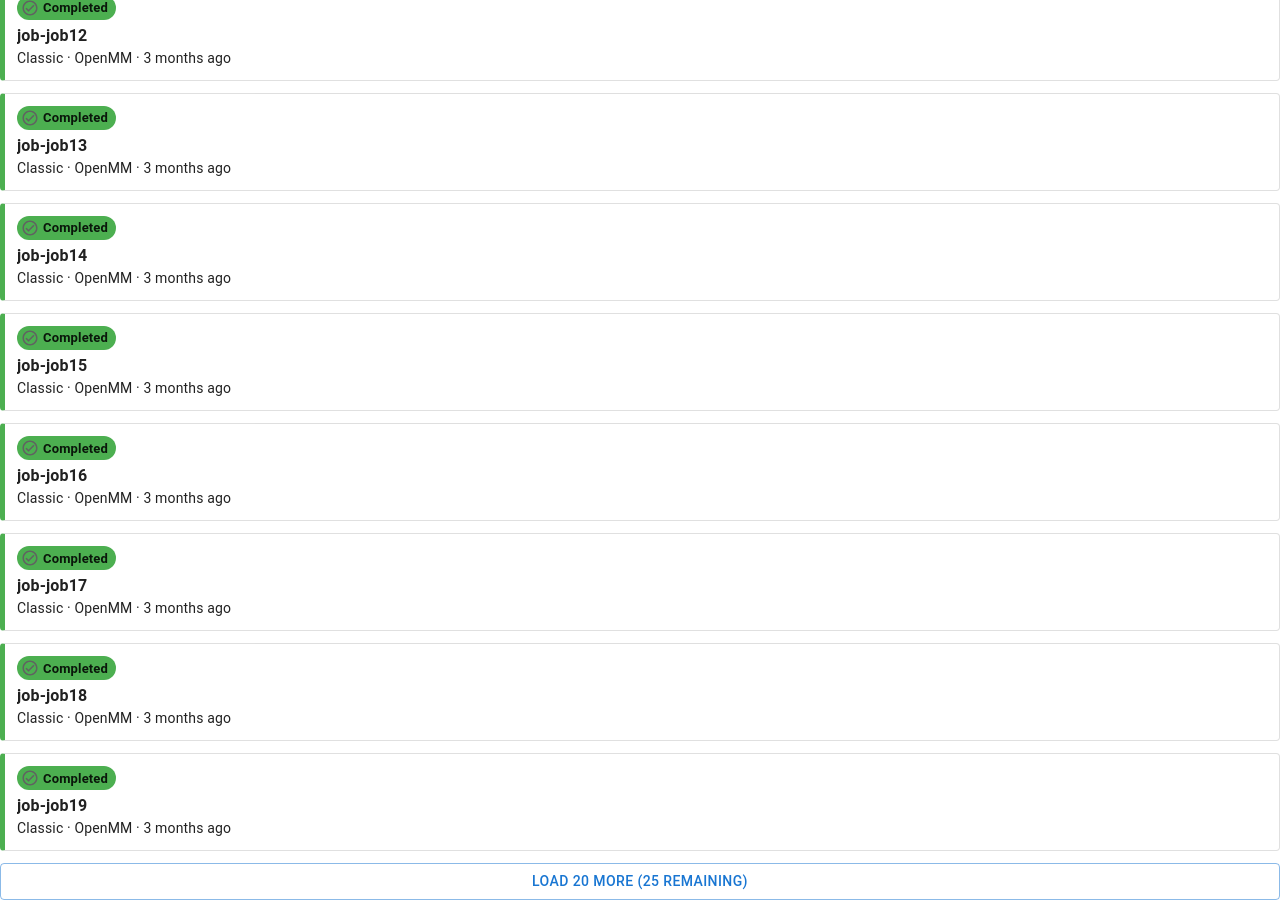
JobCardList › paginates with a load-more button
(page scrolled)
Click the button "Load 20 more (25 remaining)" at [640, 882], box [0, 863, 1279, 899]
(page scrolled)
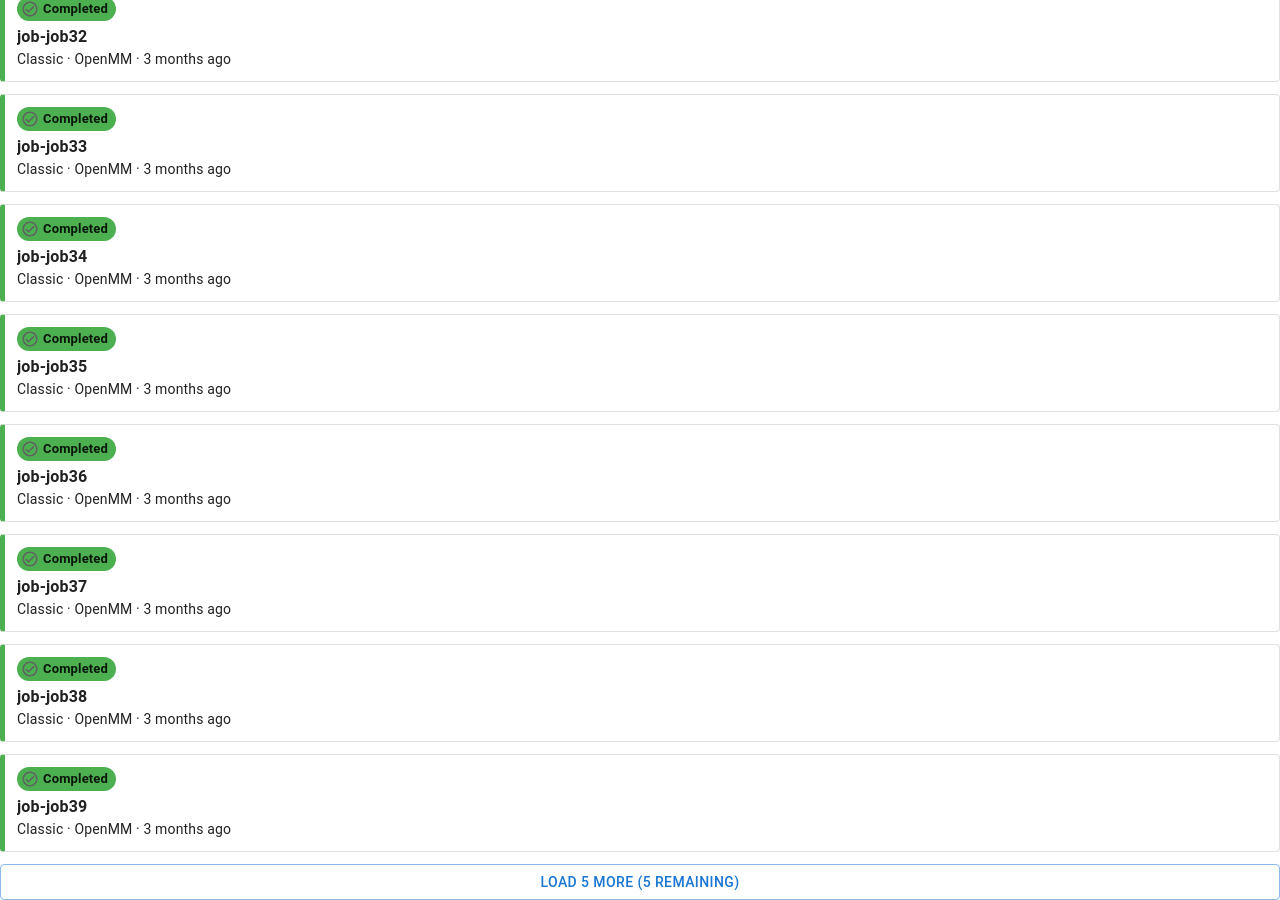
Click the button "Load 5 more (5 remaining)" at [640, 882], box [0, 864, 1279, 899]
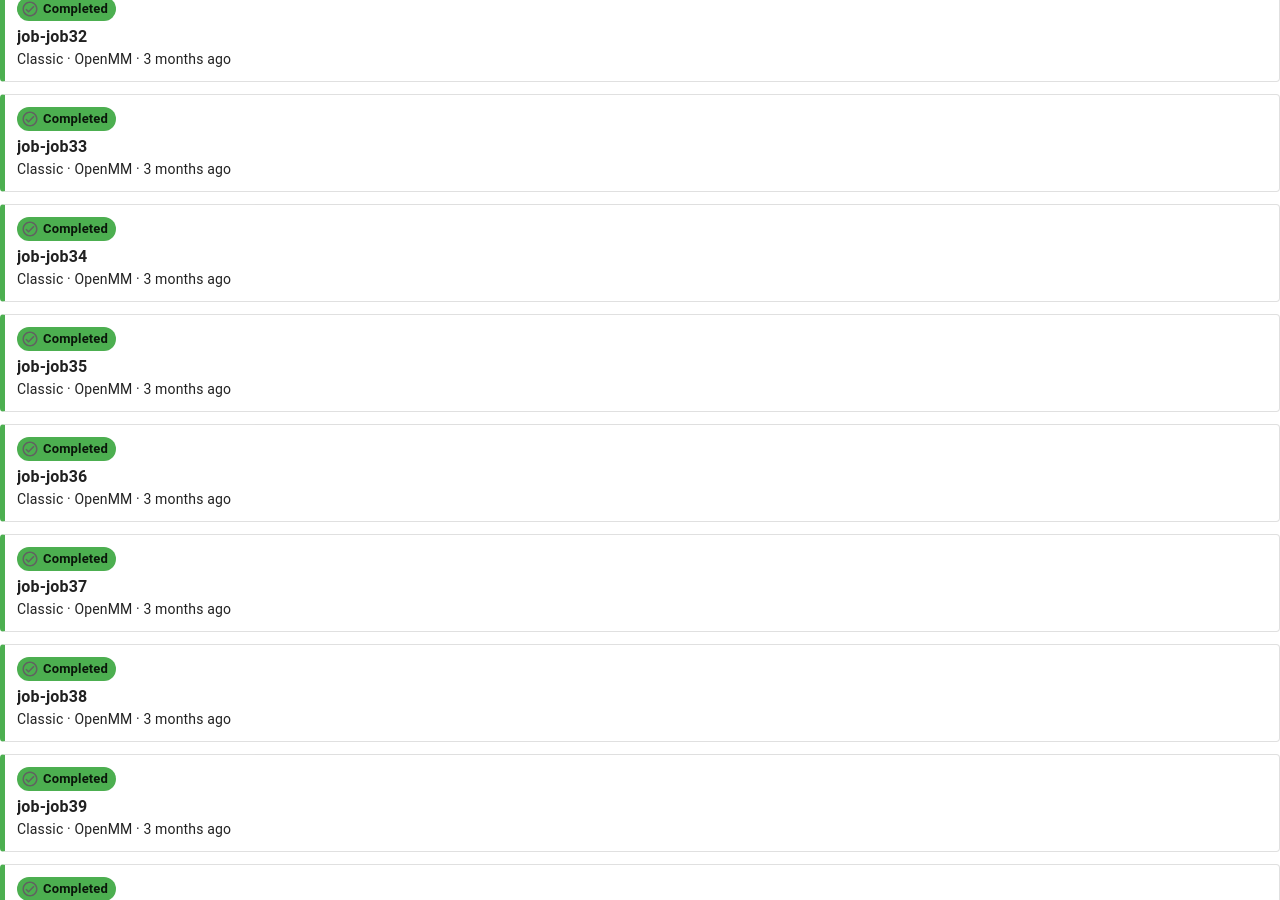
expect the button "Load" is gone: met
